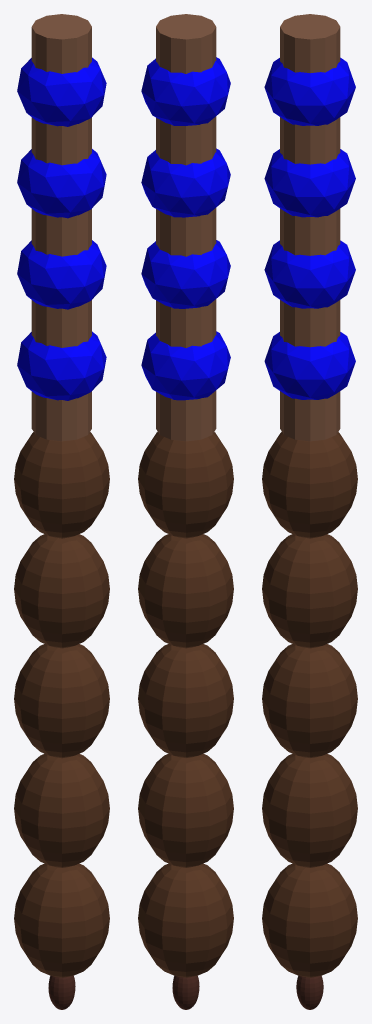
The model's file is Wand 236.glb.
The picture shows the model from 3 angles, left to right: view 1: azimuth 30°, elevation 25°; view 2: azimuth 210°, elevation 25°; view 3: azimuth 270°, elevation 25°; orthographic projection.
Parts seen in each view (by area): view 1: GeneratedWand; view 2: GeneratedWand; view 3: GeneratedWand.
Part boxes in pixels (x1=…): GeneratedWand: x1=14, y1=14, x2=109, y2=1009; GeneratedWand: x1=138, y1=14, x2=233, y2=1009; GeneratedWand: x1=262, y1=14, x2=357, y2=1009.
Size of the model in its own units: 0.0447 by 0.5074 by 0.0449.
